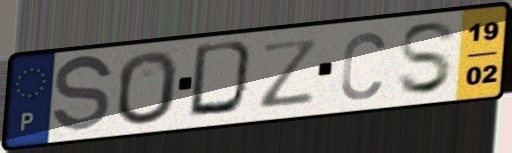C: (337, 29, 388, 104)
D: (185, 38, 261, 120)
O: (115, 49, 180, 128)
S: (49, 51, 116, 138), (395, 18, 461, 98)
Z: (259, 35, 324, 111)
